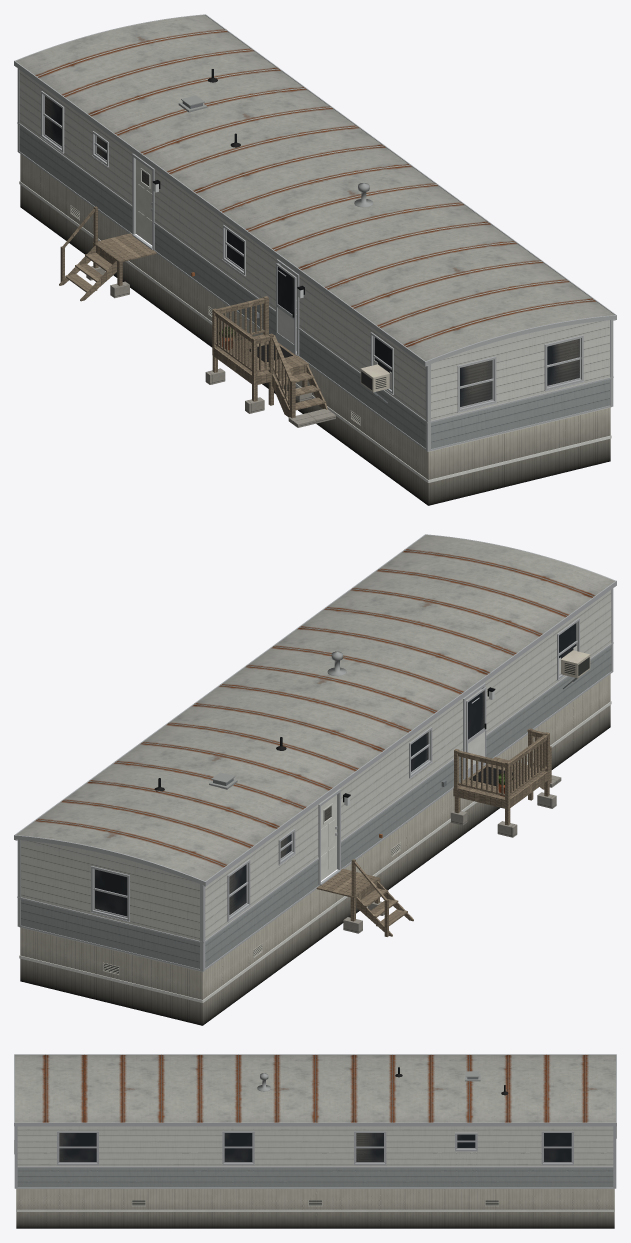
Rendered from abernathy-trailer.glb.
The picture shows the model from 3 angles, top to bottom: view 1: azimuth 30°, elevation 25°; view 2: azimuth 150°, elevation 25°; view 3: azimuth 270°, elevation 25°; orthographic projection. The views are drawn at different scales.
Parts seen in each view (by area): view 1: Roof, House, Skirting, Porch; view 2: Roof, House, Skirting, Porch; view 3: Roof, House, Skirting.
Part boxes in pixels (left/top/right/bottom): Roof: left=14, top=14, right=616, bottom=366; House: left=17, top=68, right=613, bottom=451; Skirting: left=19, top=154, right=611, bottom=505; Porch: left=59, top=206, right=335, bottom=427; Roof: left=14, top=534, right=616, bottom=886; House: left=17, top=588, right=613, bottom=971; Skirting: left=19, top=674, right=611, bottom=1025; Porch: left=316, top=728, right=561, bottom=936; Roof: left=14, top=1054, right=616, bottom=1126; House: left=14, top=1126, right=616, bottom=1188; Skirting: left=16, top=1188, right=614, bottom=1228.
Size of the model in its own units: 6.91 by 4.37 by 18.78.
Materials: 20 (11 with a texture image).
